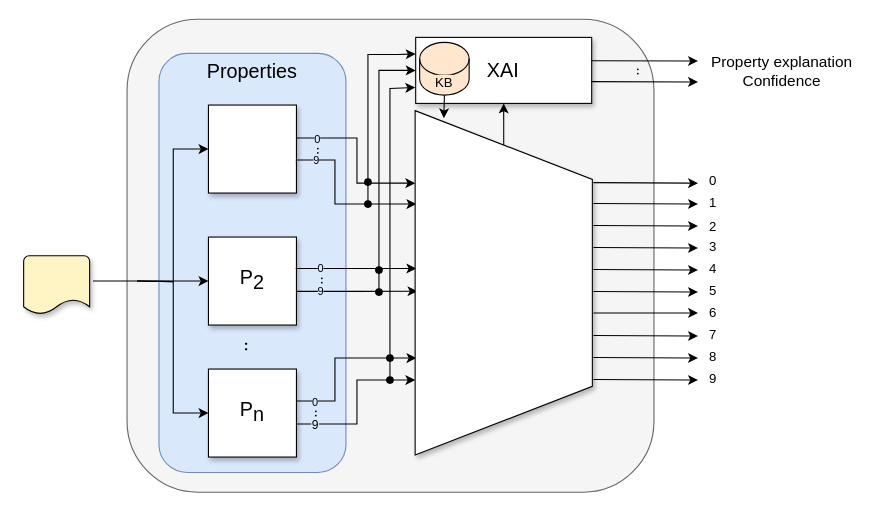
Some shapes in this 878 by 512 pixel diagram are drawn without their labels. Here are the shapes that lost their labels. From the top down, the centre of each, then its label:
the point at 253,150: P 1
the point at 57,286: I i
the point at 504,284: Voter Model Engine
